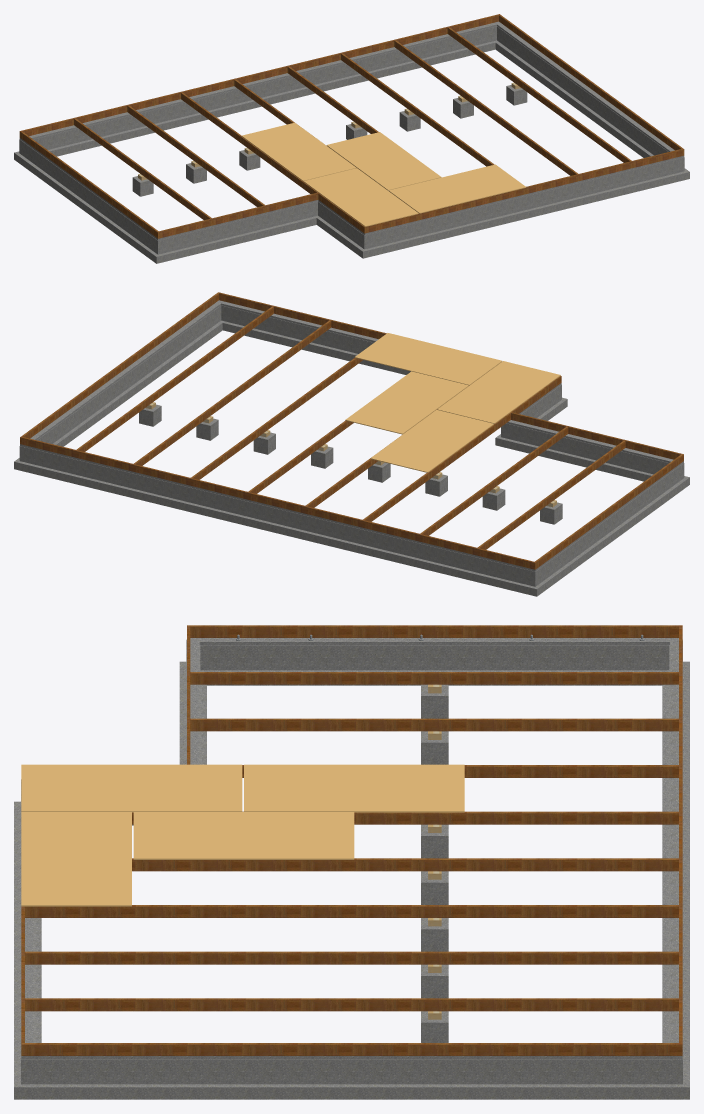
The model's file is Floor_System.fbx.
3 renders of one model, top to bottom at view 1: azimuth 30°, elevation 25°; view 2: azimuth 150°, elevation 25°; view 3: azimuth 270°, elevation 25°, orthographic. The views are drawn at different scales.
Parts seen in each view (by area): view 1: Group21, Model, Group2, Group30, Group4, Group31, Group34, Group32, Group17, Group7, Group15, Group20 (+5 smaller); view 2: Group21, Model, Group2, Group4, Group31, Group30, Group34, Group32, Group20, Group17, Group23, Group15 (+5 smaller); view 3: Group21, Group31, Group30, Group4, Group2, Group34, Group15, Group17, Group20, Group25, Group7, Group23 (+15 smaller).
Part boxes in pixels (left/top/right/bottom): Group21: left=14, top=21, right=689, bottom=263; Model: left=21, top=14, right=682, bottom=238; Group2: left=388, top=164, right=526, bottom=213; Group30: left=303, top=168, right=418, bottom=226; Group4: left=326, top=132, right=441, bottom=190; Group31: left=241, top=122, right=356, bottom=181; Group34: left=498, top=14, right=684, bottom=155; Group32: left=19, top=131, right=159, bottom=238; Group17: left=447, top=27, right=585, bottom=133; Group7: left=341, top=53, right=478, bottom=159; Group15: left=394, top=40, right=531, bottom=146; Group20: left=127, top=105, right=264, bottom=207; Group21: left=14, top=300, right=689, bottom=596; Model: left=22, top=292, right=681, bottom=569; Group2: left=354, top=333, right=502, bottom=385; Group4: left=345, top=371, right=468, bottom=434; Group31: left=370, top=410, right=493, bottom=472; Group30: left=437, top=361, right=560, bottom=423; Group34: left=20, top=292, right=219, bottom=444; Group32: left=533, top=454, right=683, bottom=569; Group20: left=420, top=426, right=568, bottom=535; Group17: left=76, top=342, right=224, bottom=451; Group23: left=477, top=440, right=625, bottom=549; Group15: left=133, top=356, right=281, bottom=465; Group21: left=14, top=638, right=689, bottom=1099; Group31: left=244, top=764, right=464, bottom=812; Group30: left=21, top=764, right=242, bottom=812; Group4: left=133, top=812, right=354, bottom=859; Group2: left=21, top=812, right=131, bottom=906; Group34: left=21, top=1043, right=682, bottom=1055; Group15: left=190, top=951, right=678, bottom=964; Group17: left=190, top=998, right=678, bottom=1011; Group20: left=190, top=718, right=678, bottom=731; Group25: left=190, top=858, right=678, bottom=871; Group7: left=190, top=905, right=678, bottom=917; Group23: left=190, top=672, right=678, bottom=684.
Bounding box in the file's own units: 438 × 25.62 × 294.
